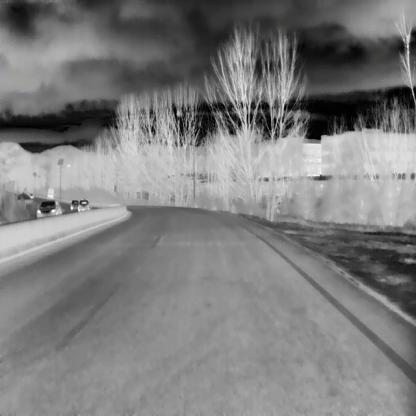car: (36, 200, 61, 217), (77, 199, 89, 211), (70, 198, 78, 209)
